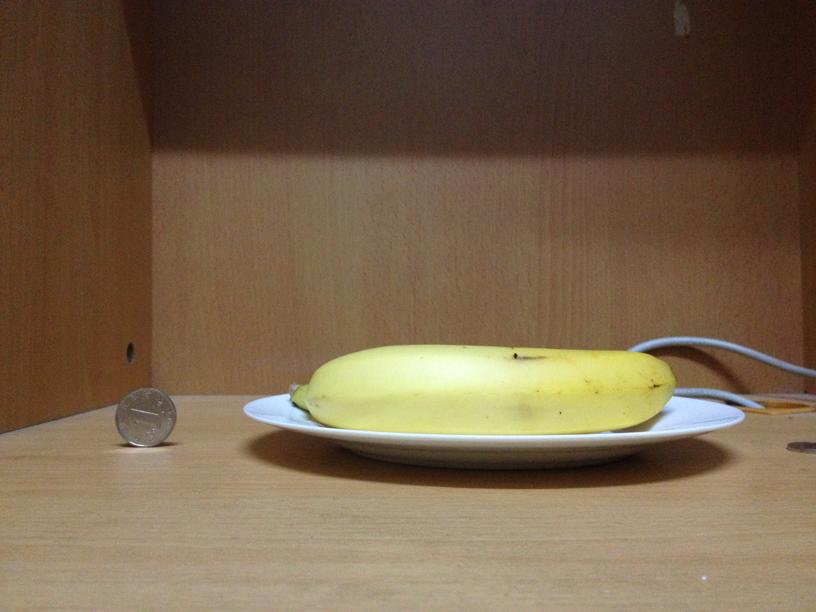banana: (286, 344, 675, 434)
coin: (111, 386, 177, 448)
